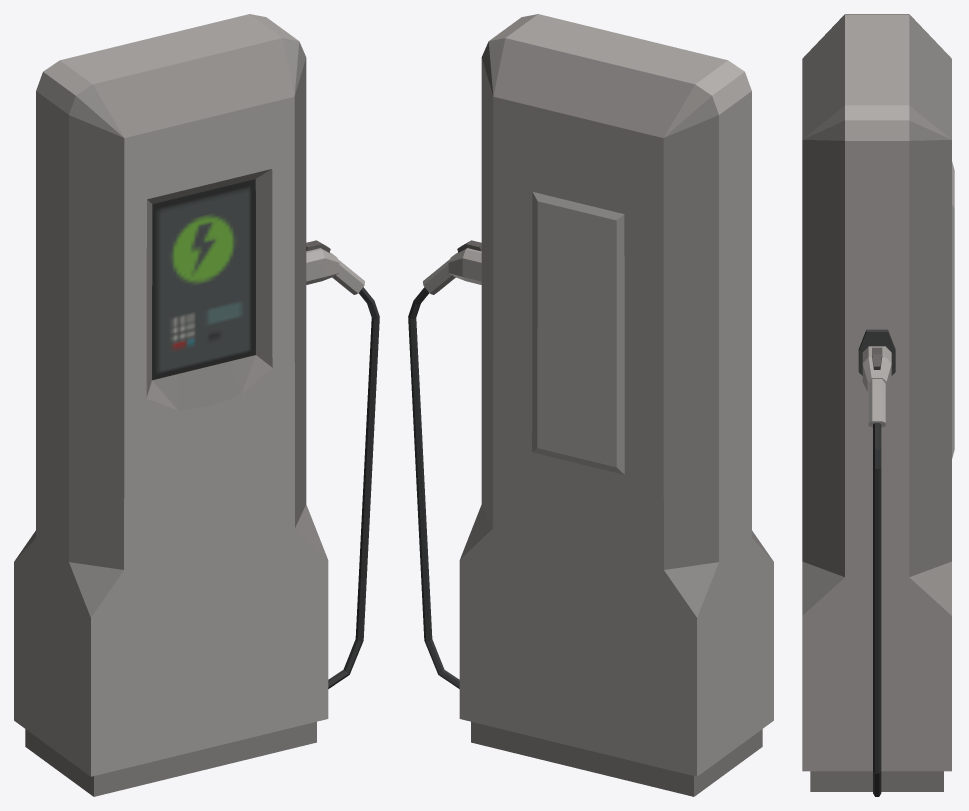
File: SM_Bldg_City_EVchargingStation_Charger_01.fbx
The picture shows the model from 3 angles, left to right: view 1: azimuth 30°, elevation 25°; view 2: azimuth 150°, elevation 25°; view 3: azimuth 270°, elevation 25°; orthographic projection. The views are drawn at different scales.
Parts seen in each view (by area): view 1: SM_Bldg_City_EVchargingStation_Charger_01; view 2: SM_Bldg_City_EVchargingStation_Charger_01; view 3: SM_Bldg_City_EVchargingStation_Charger_01.
Part boxes in pixels (<box>): SM_Bldg_City_EVchargingStation_Charger_01: <box>14,14,379,796</box>; SM_Bldg_City_EVchargingStation_Charger_01: <box>408,14,773,796</box>; SM_Bldg_City_EVchargingStation_Charger_01: <box>802,14,954,796</box>.
Size of the model in its own units: 137 by 280 by 57.
